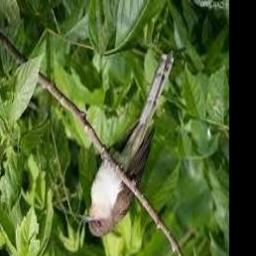Cuckoo: (80, 53, 176, 237)
